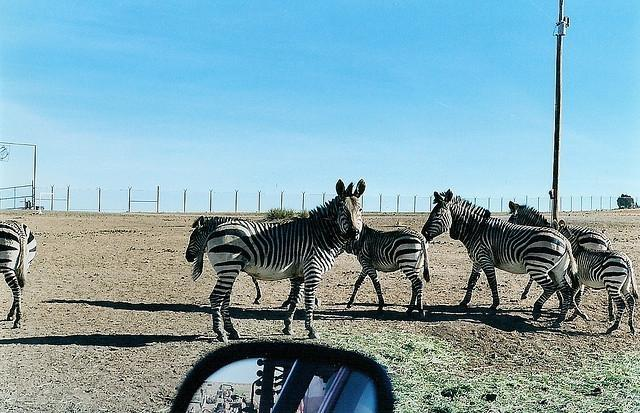car: (165, 344, 403, 407), (216, 384, 234, 398)
